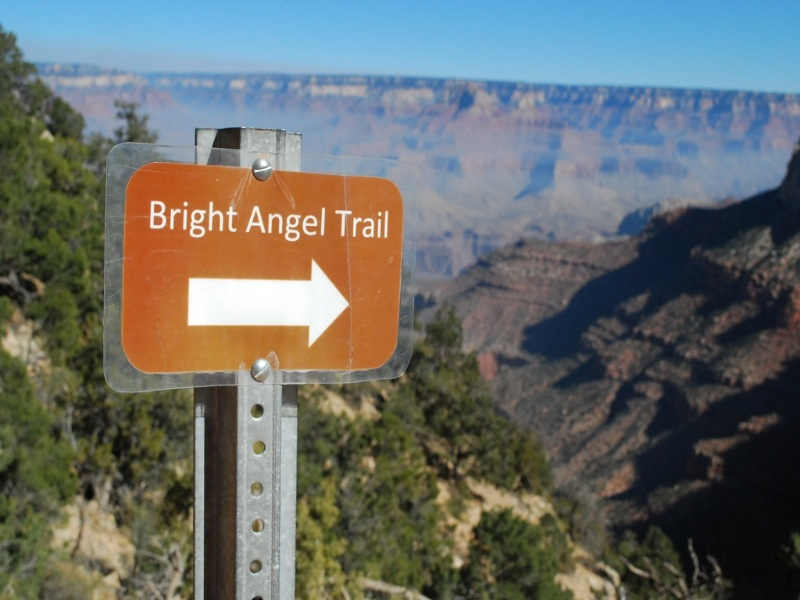right_direction: (172, 247, 354, 355)
